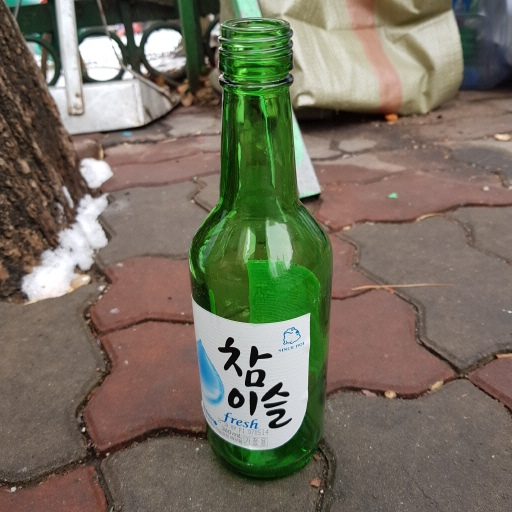Glass_0: (189, 17, 331, 475)
